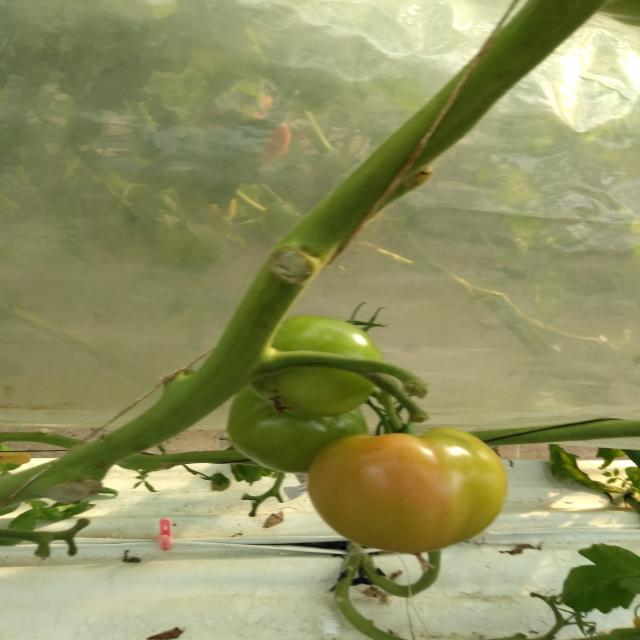yesil: (205, 317, 521, 569)
